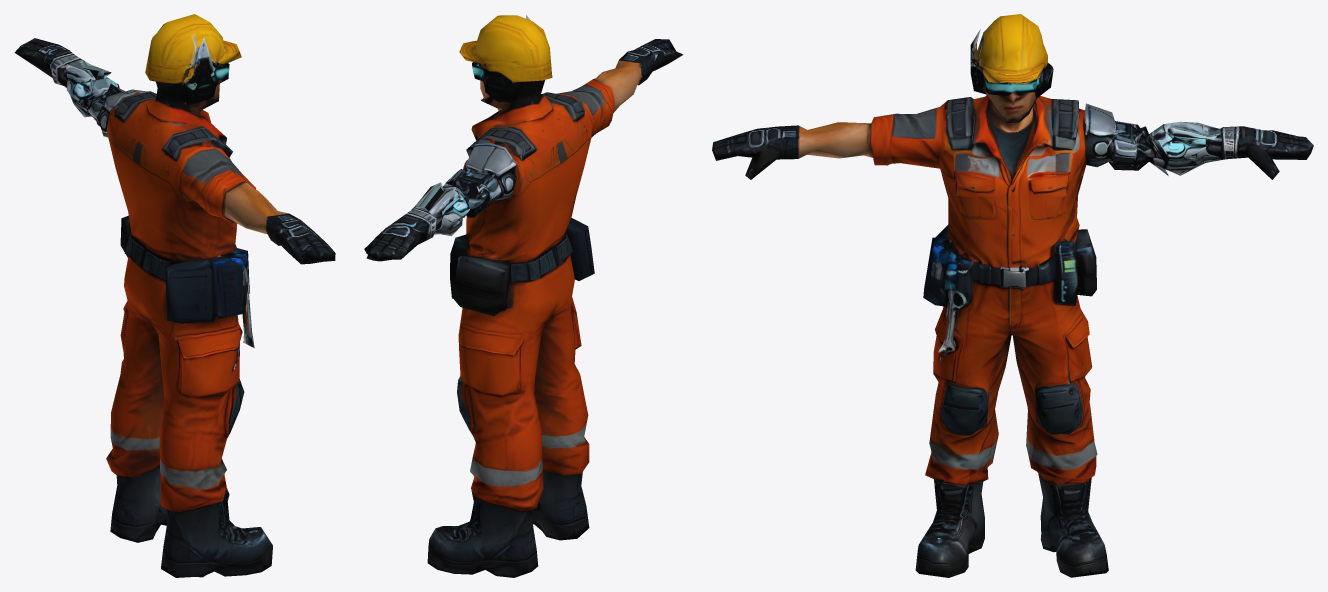
The model's file is tripo_convert_a4f51c28-3a3c-4b30-b458-e01ca8aba076.fbx.
3 renders of one model, left to right at view 1: azimuth 30°, elevation 25°; view 2: azimuth 150°, elevation 25°; view 3: azimuth 270°, elevation 25°, orthographic. The views are drawn at different scales.
Visible parts, largest first — view 1: tripo_node_a4f51c28; view 2: tripo_node_a4f51c28; view 3: tripo_node_a4f51c28.
Boxes of the visible parts, x1=… form: tripo_node_a4f51c28: x1=14, y1=14, x2=335, y2=577; tripo_node_a4f51c28: x1=364, y1=14, x2=683, y2=577; tripo_node_a4f51c28: x1=712, y1=14, x2=1313, y2=577.
Bounding box in the file's own units: 0.1964 × 0.9786 × 0.9912.
1 material, 1 textured.
